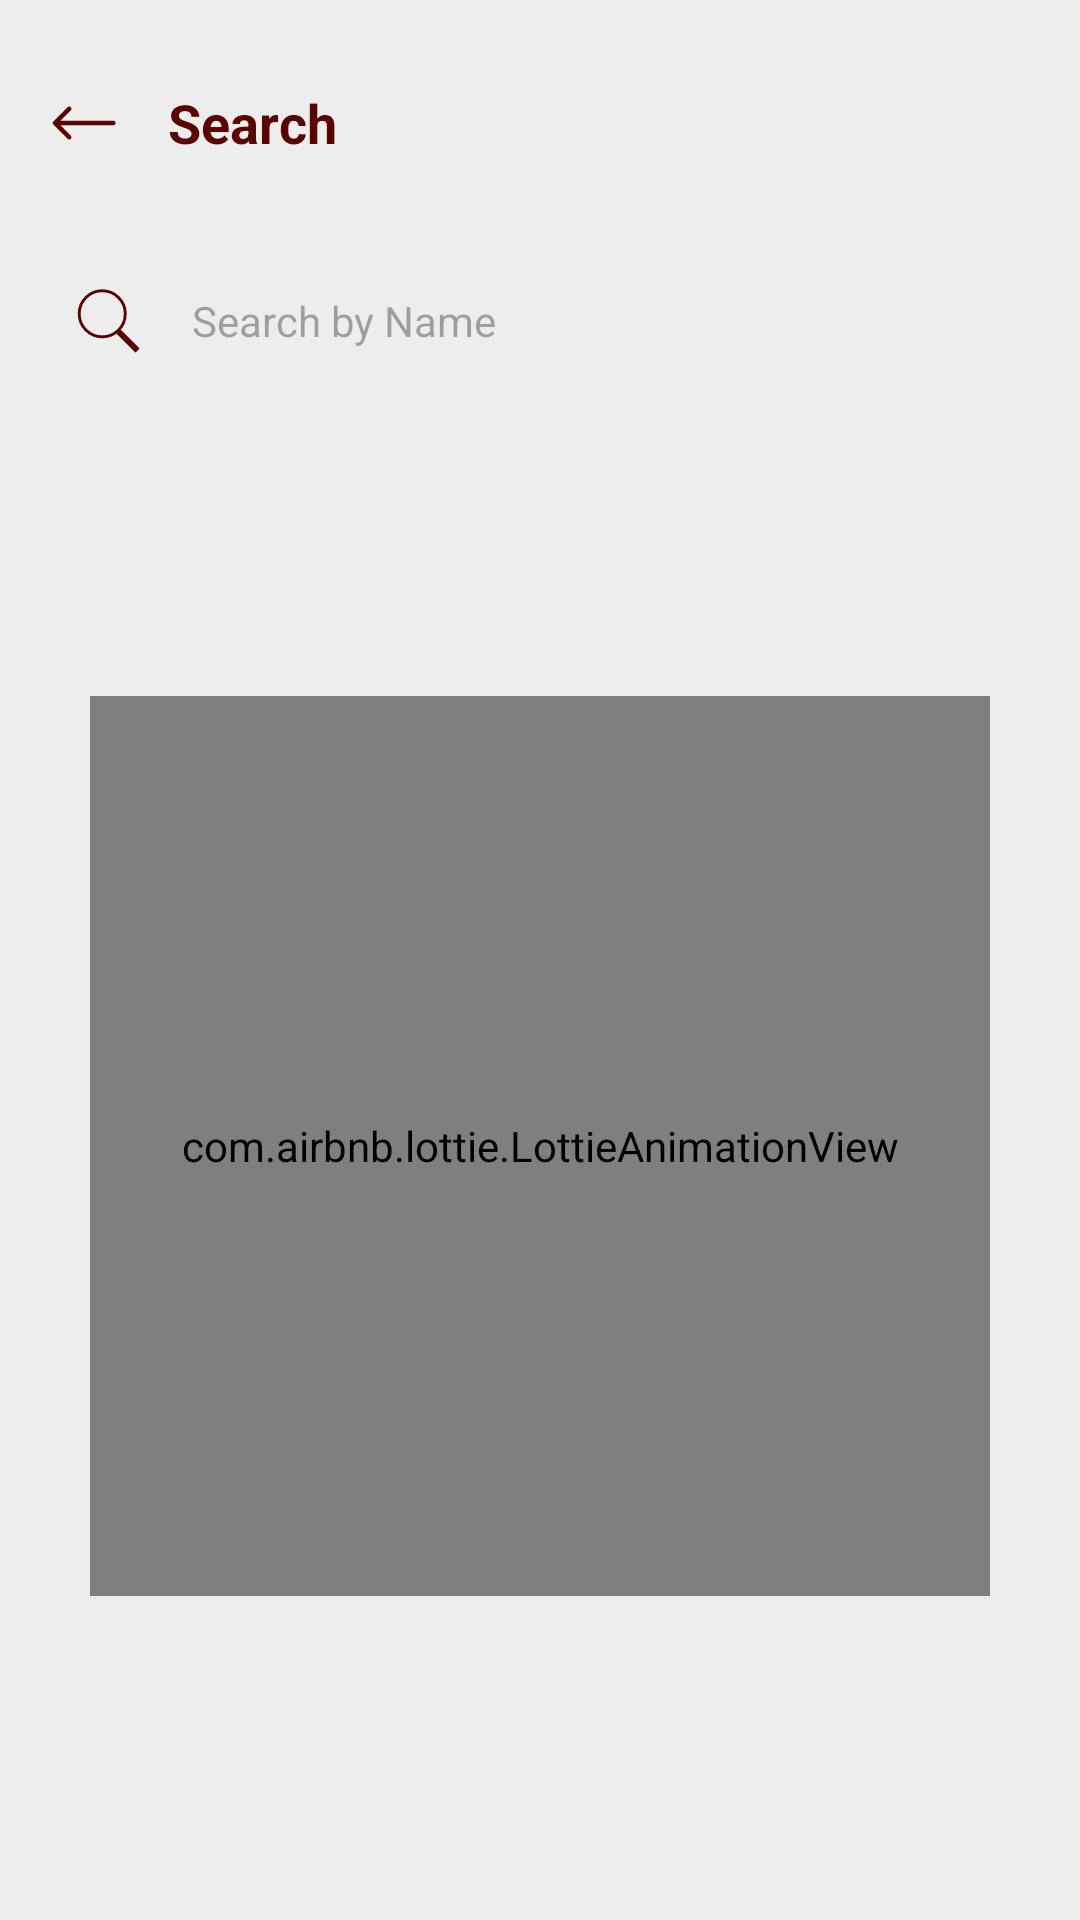

Icons on this 1080×1920 Android screen, each with the point to tap as [x,y]:
back: [84,123]
